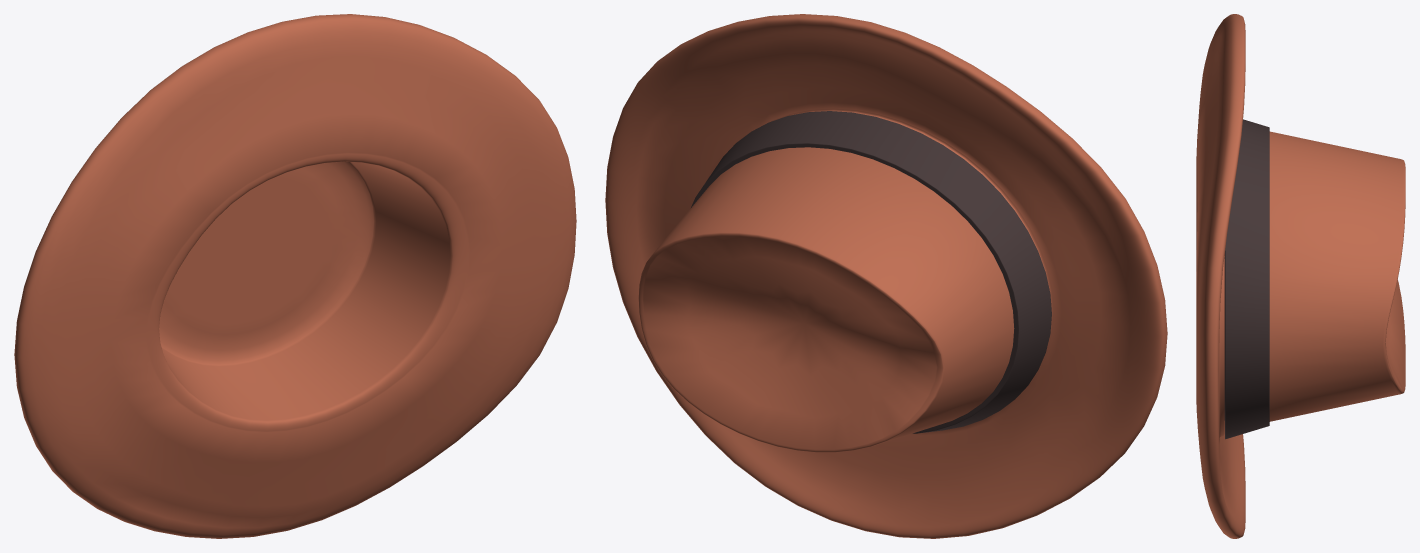
The model's file is Hat.fbx.
The picture shows the model from 3 angles, left to right: view 1: azimuth 30°, elevation 25°; view 2: azimuth 150°, elevation 25°; view 3: azimuth 270°, elevation 25°; orthographic projection. The views are drawn at different scales.
Parts seen in each view (by area): view 1: Cowboy_high; view 2: Cowboy_high; view 3: Cowboy_high.
Part boxes in pixels (left/top/right/bottom): Cowboy_high: left=14, top=14, right=576, bottom=538; Cowboy_high: left=605, top=14, right=1167, bottom=538; Cowboy_high: left=1196, top=14, right=1405, bottom=538.
Size of the model in its own units: 20.66 by 17.88 by 7.28.
